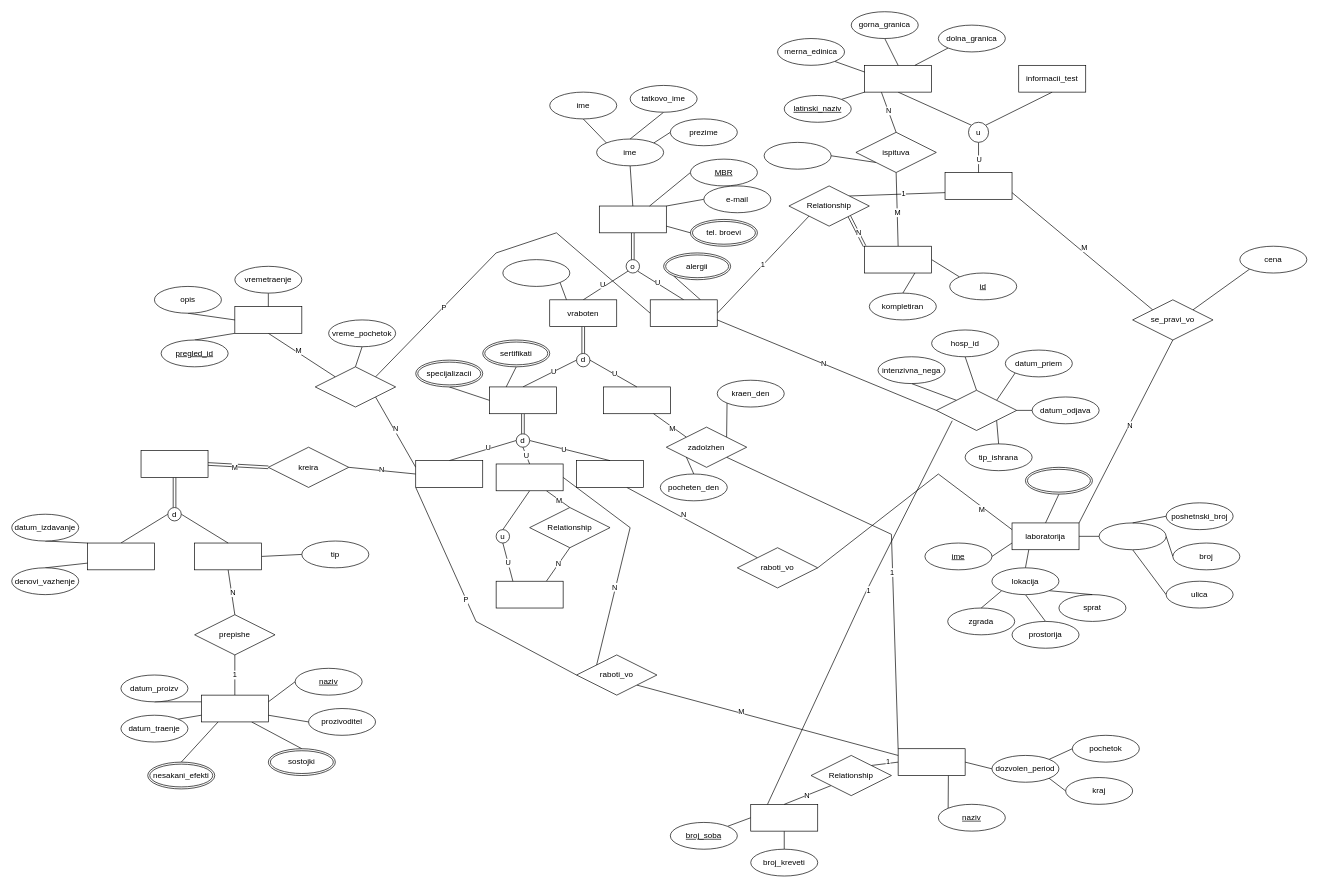
This 1319x888 diagram has some shape labels left out. Each missing label, with the centre of its shape:
adresa: point (1132, 536)
doktor/ki: point (449, 473)
glavni sestri: point (529, 594)
higienicar: point (636, 400)
hospitalizacija: point (976, 410)
instrumenti: point (1058, 480)
izvestaj: point (174, 463)
korisnik: point (632, 219)
laboranti: point (610, 473)
lek: point (234, 708)
med. personal: point (522, 400)
med. sestri: point (529, 477)
oddelenie: point (931, 762)
pacient: point (683, 313)
parametri: point (898, 78)
pregled: point (268, 319)
raboten stazh: point (536, 272)
recept: point (228, 556)
rezultat: point (898, 259)
soba: point (784, 817)
test: point (978, 185)
upat: point (120, 556)
vrednost: point (797, 155)
zakazuva termin: point (355, 386)
